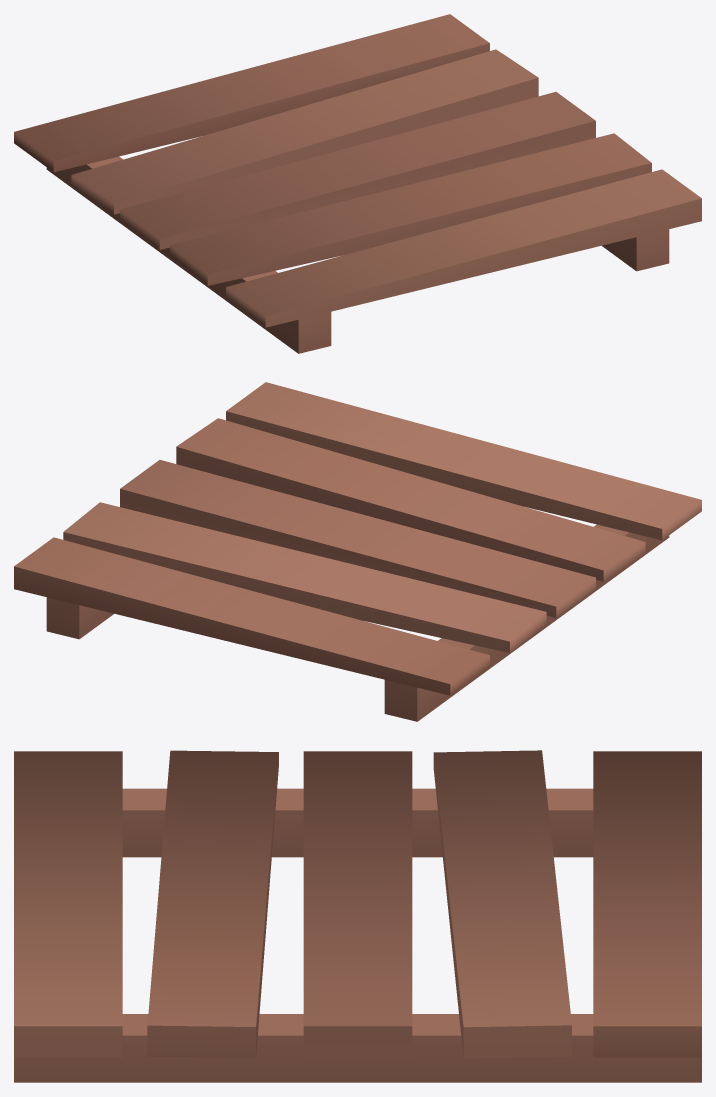
Rendered from template-floor-layer.glb.
3 views of the same model, one above another, from view 1: azimuth 30°, elevation 25°; view 2: azimuth 150°, elevation 25°; view 3: azimuth 270°, elevation 25° (orthographic). The views are drawn at different scales.
Visible parts, largest first — view 1: template-floor-layer; view 2: template-floor-layer; view 3: template-floor-layer.
Boxes of the visible parts, <box> form: template-floor-layer: <box>14,14,701,353</box>; template-floor-layer: <box>14,382,701,721</box>; template-floor-layer: <box>14,750,701,1082</box>.
Size of the model in its own units: 4.02 by 0.5 by 4.
1 material, 1 textured.
